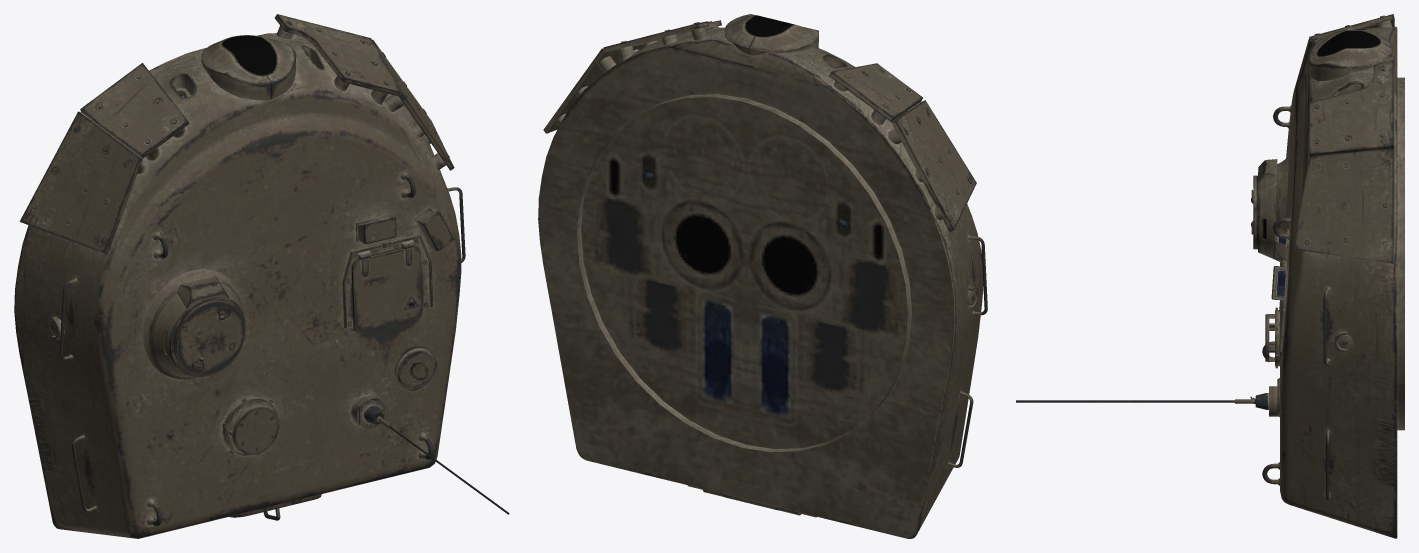
Rendered from Turret_01.glb.
The picture shows the model from 3 angles, left to right: view 1: azimuth 30°, elevation 25°; view 2: azimuth 150°, elevation 25°; view 3: azimuth 270°, elevation 25°; orthographic projection. The views are drawn at different scales.
Parts seen in each view (by area): view 1: set_0_group_0; view 2: set_0_group_0; view 3: set_0_group_0.
Boxes of the visible parts, x1,y1,x2,y2 form: set_0_group_0: (14,14,509,538); set_0_group_0: (538,14,987,538); set_0_group_0: (1016,14,1404,538).
Bounding box in the file's own units: 2.78 × 2.99 × 2.42.
Materials: 1 (1 with a texture image).
